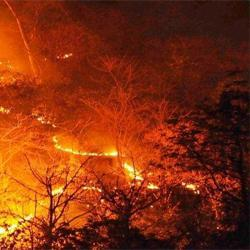fire: (69, 151, 123, 160), (124, 162, 144, 183), (48, 187, 64, 194)
